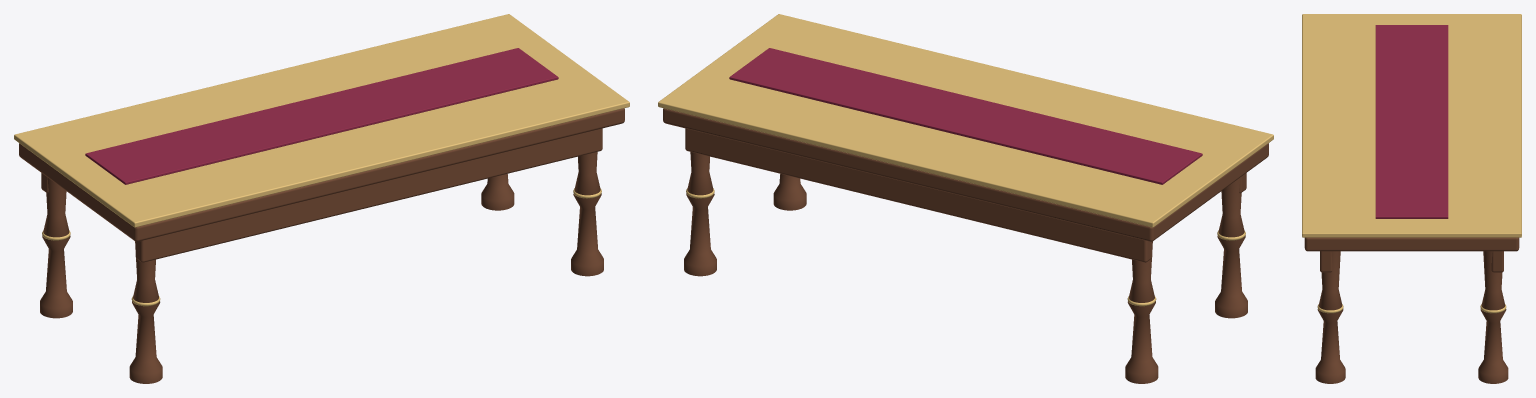
Rendered from royal-court-and-throne-palace-banquet-table-08a902c0__29404.glb.
3 renders of one model, left to right at view 1: azimuth 30°, elevation 25°; view 2: azimuth 150°, elevation 25°; view 3: azimuth 270°, elevation 25°, orthographic. The views are drawn at different scales.
Visible parts, largest first — view 1: banquet-table; view 2: banquet-table; view 3: banquet-table.
Part boxes in pixels (x1,y1,x2,y2): banquet-table: (14,14,629,383); banquet-table: (658,14,1273,383); banquet-table: (1302,14,1521,383).
Size of the model in its own units: 2.42 by 0.8189 by 1.02.
